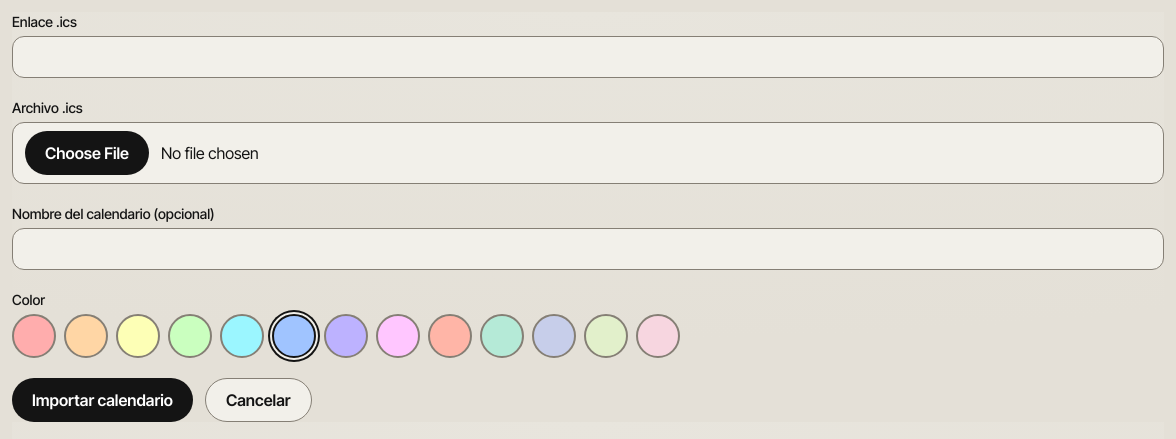
it: ImportForm progress (RF-31, RF-32) › disables the button and says it is working while the import runs
In the field labelled "Enlace .ics": (588, 57) [12,36,1164,78], type "https://a.example.com/x.ics"
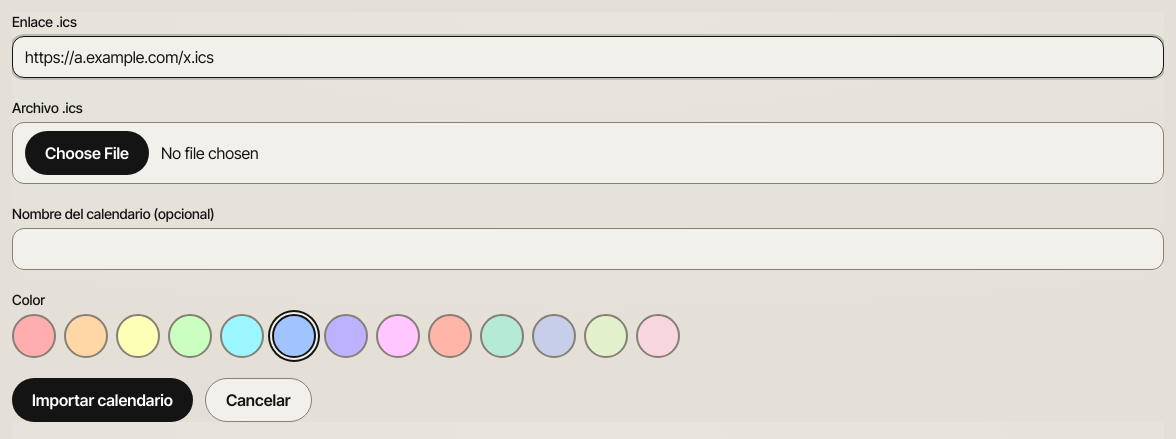
Click the button "Importar calendario": (102, 400) [12,378,193,422]
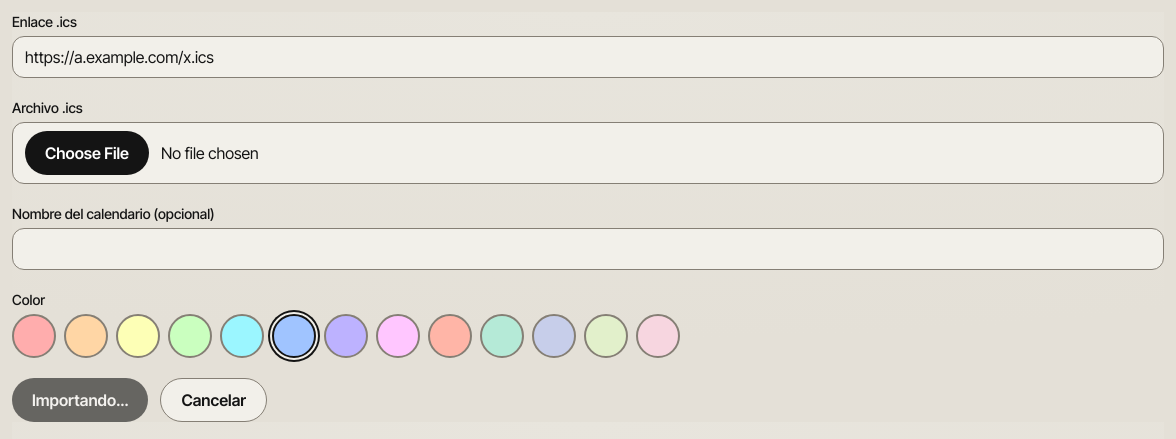
Check: the button "Importando…" is disabled
Click the button "Importando…": (80, 400) [12,378,148,422]
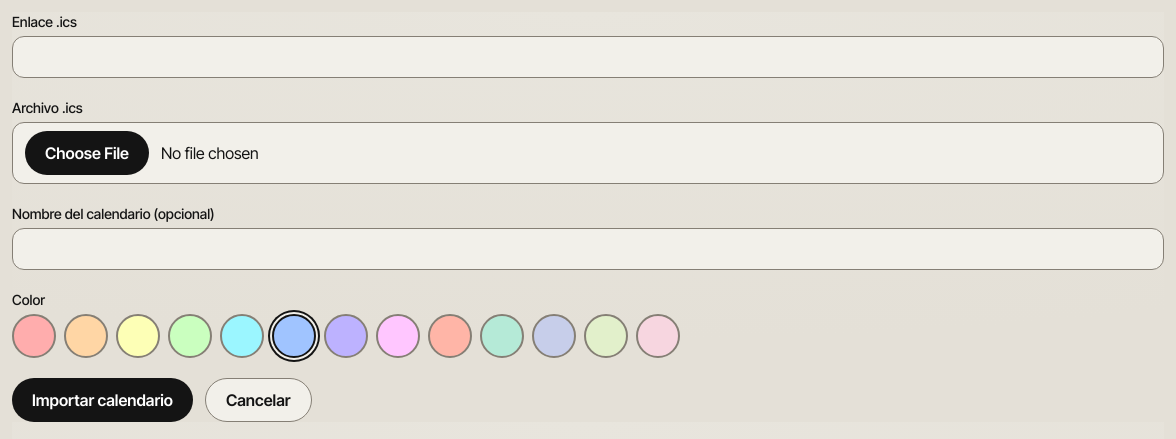
Check: the button "Importar calendario" is enabled, box [12,378,193,422]
